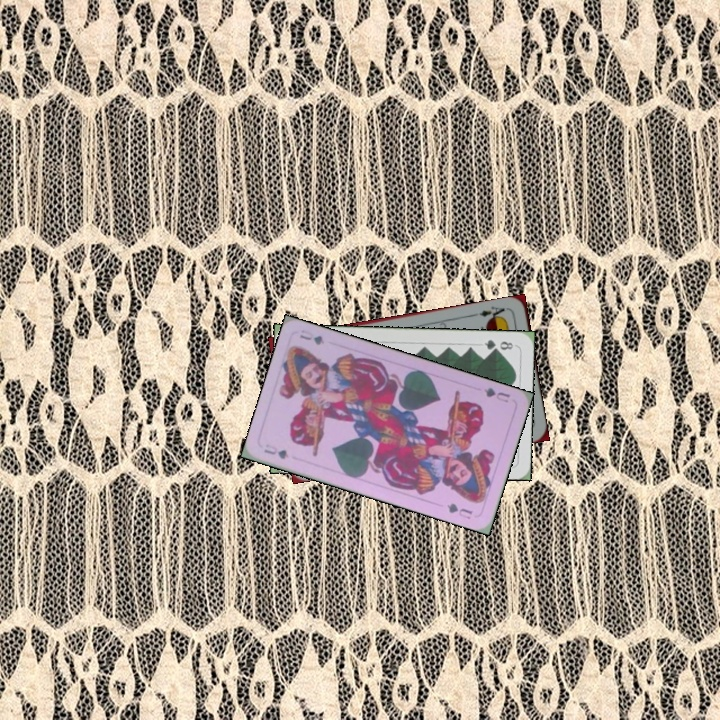EA: (475, 302, 511, 323)
G8: (481, 335, 516, 353)
GU: (480, 383, 512, 405), (260, 440, 291, 462)
